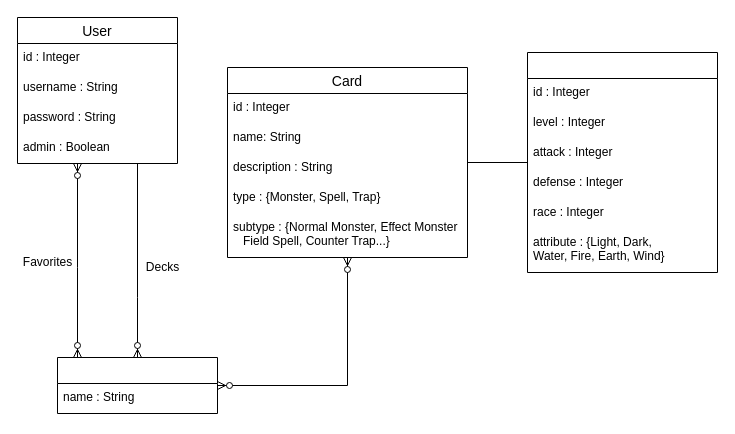
Some shapes in this 735 by 434 pixel diagram are drawn without their labels. Here are the shapes that lost their labels. From the top down, the box of each, then its label:
(526, 52, 718, 272): Monster
(56, 356, 218, 414): Deck
